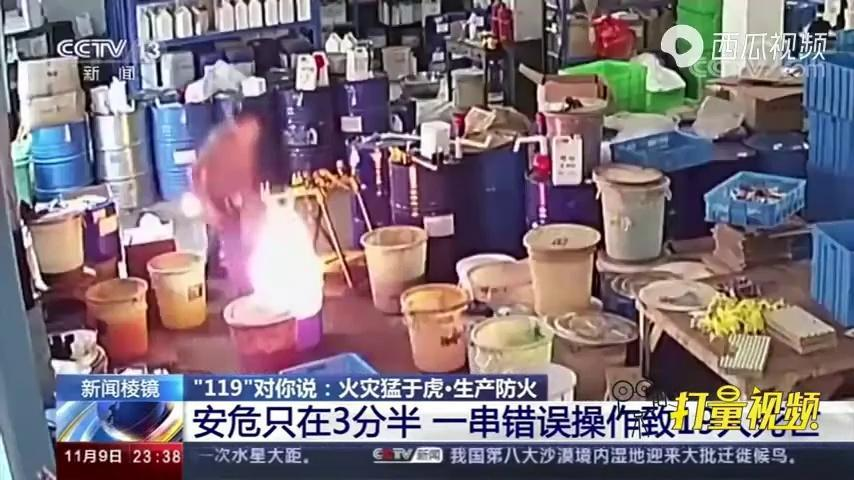fire: (193, 139, 362, 366)
